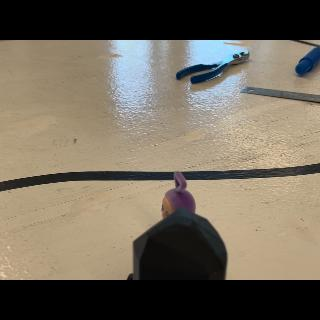teletubby: (161, 172, 196, 219)
